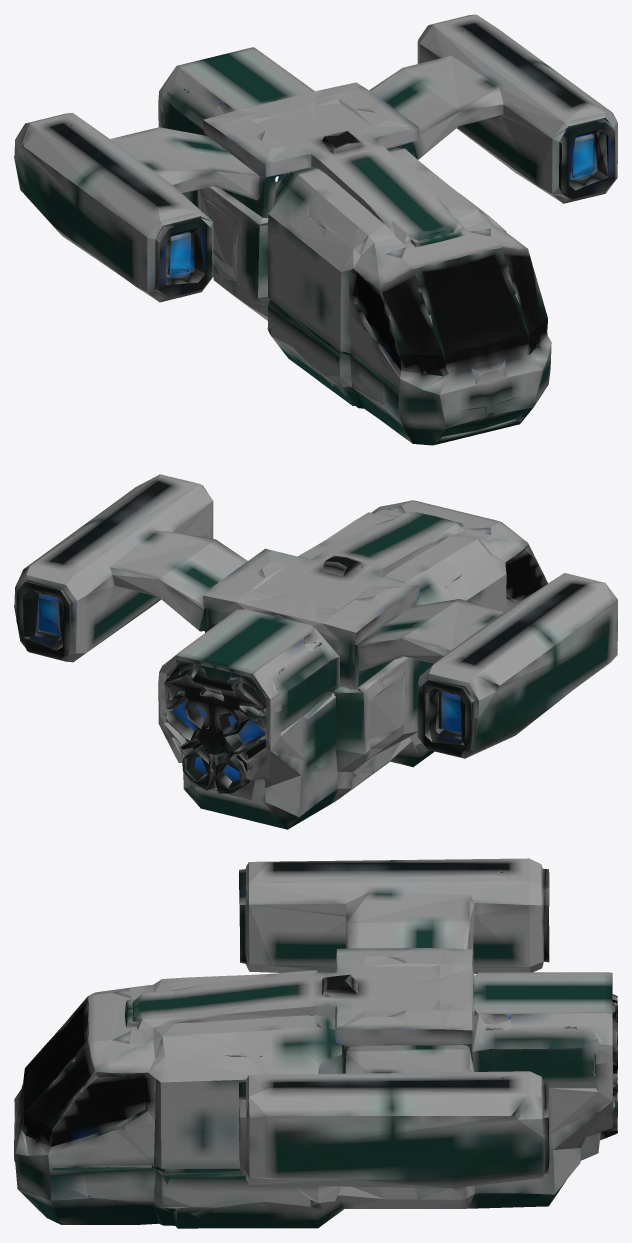
3 views of the same model, one above another, from view 1: azimuth 30°, elevation 25°; view 2: azimuth 150°, elevation 25°; view 3: azimuth 270°, elevation 25° (orthographic). The views are drawn at different scales.
Visible parts, largest first — view 1: world; view 2: world; view 3: world.
Boxes of the visible parts, bbox=[...] form: world: bbox=[14, 14, 617, 445]; world: bbox=[14, 474, 617, 829]; world: bbox=[14, 858, 617, 1228].
Bounding box in the file's own units: 0.9931 × 0.4046 × 1.
Materials: 1 (1 with a texture image).
